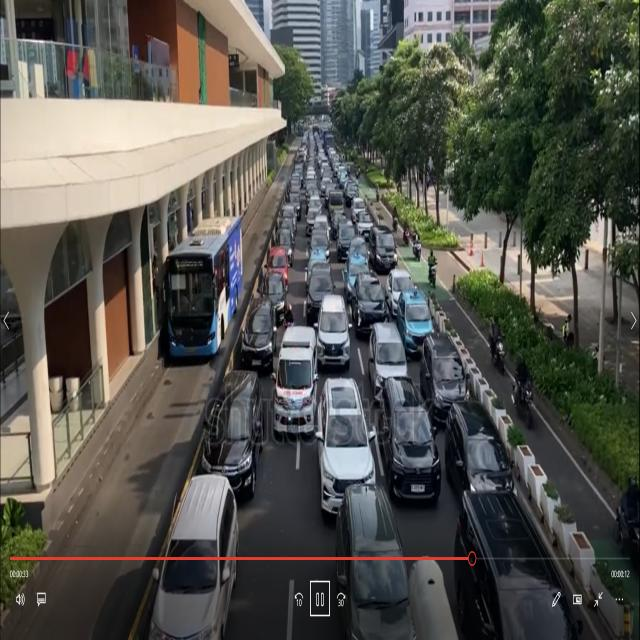Ambulance: (270, 322, 316, 448)
